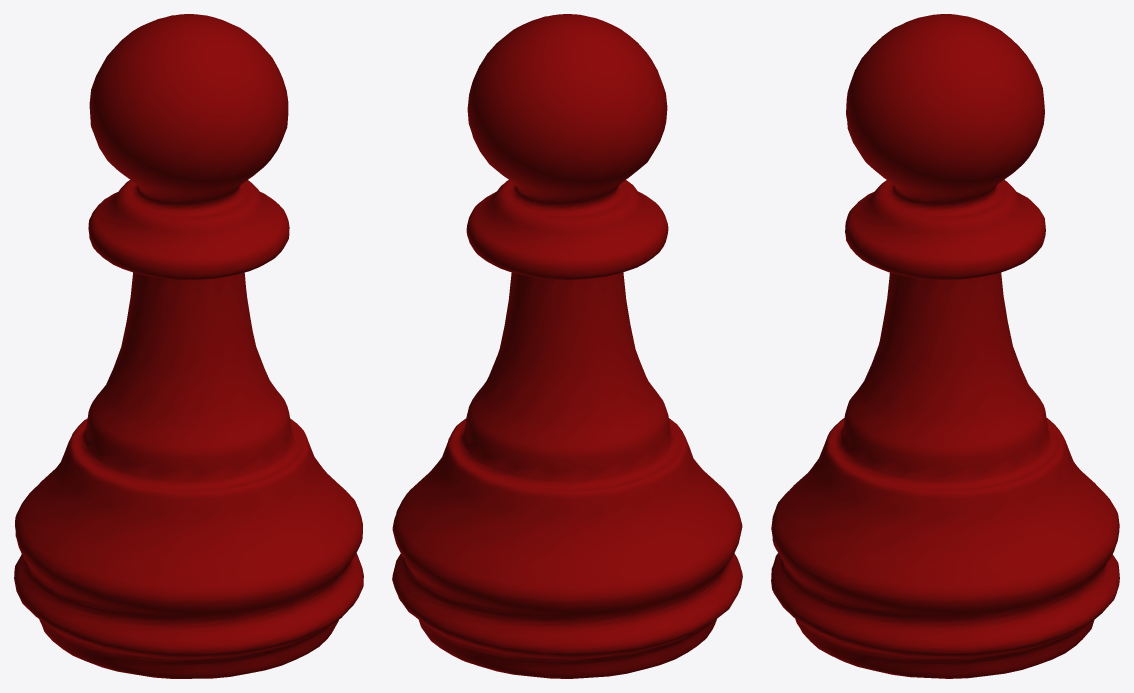
3 renders of one model, left to right at view 1: azimuth 30°, elevation 25°; view 2: azimuth 150°, elevation 25°; view 3: azimuth 270°, elevation 25°, orthographic.
Visible parts, largest first — view 1: Porn_13; view 2: Porn_13; view 3: Porn_13.
Part boxes in pixels (x1,y1,x2,y2): Porn_13: (14, 14, 363, 678); Porn_13: (392, 14, 742, 678); Porn_13: (771, 14, 1119, 678).
Size of the model in its own units: 0.254 by 0.4783 by 0.254.
